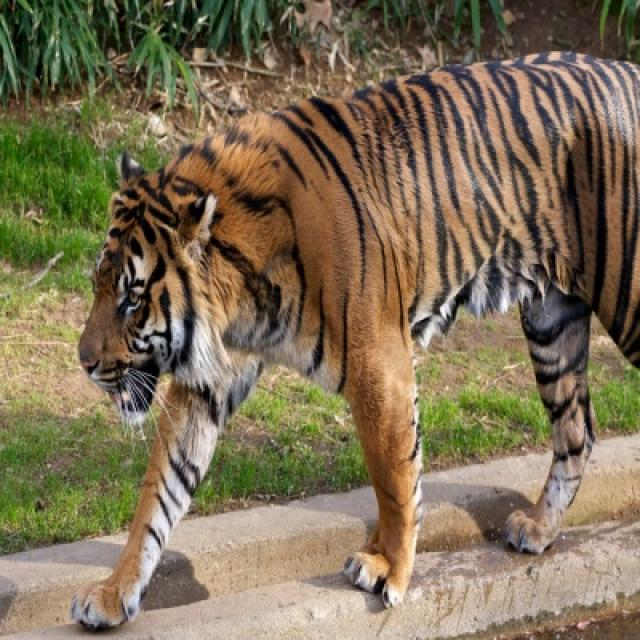Tiger: (64, 61, 638, 629)
